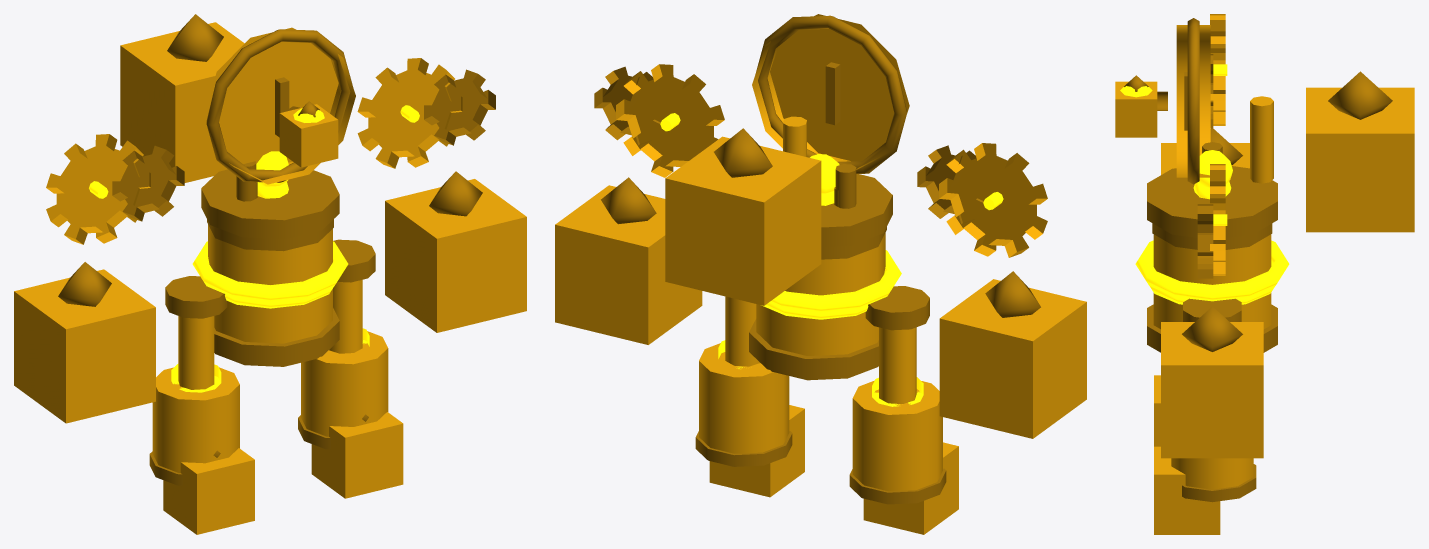
Rendered from golem_117.glb.
3 renders of one model, left to right at view 1: azimuth 30°, elevation 25°; view 2: azimuth 150°, elevation 25°; view 3: azimuth 270°, elevation 25°, orthographic. The views are drawn at different scales.
Parts seen in each view (by area): view 1: Body, Detail, Glow; view 2: Body, Detail, Glow; view 3: Body, Detail, Glow.
Part boxes in pixels (left/top/right/bottom): Body: left=14, top=22, right=526, bottom=534; Detail: left=58, top=14, right=495, bottom=485; Glow: left=89, top=105, right=419, bottom=392; Body: left=555, top=14, right=1086, bottom=534; Detail: left=594, top=15, right=1040, bottom=504; Glow: left=660, top=113, right=1003, bottom=406; Body: left=1115, top=14, right=1414, bottom=534; Detail: left=1124, top=18, right=1392, bottom=502; Glow: left=1120, top=64, right=1289, bottom=304.
Size of the model in its own units: 1.4 by 1.36 by 0.8007.
